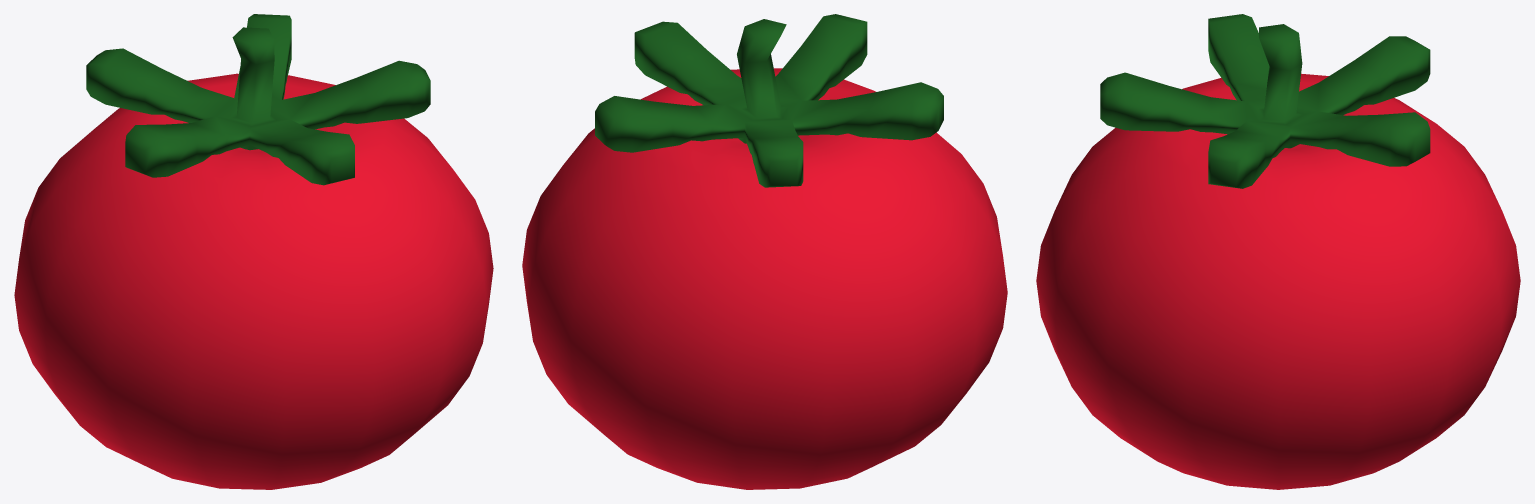
The model's file is tomato_fbx.fbx.
3 views of the same model, side by side, from view 1: azimuth 30°, elevation 25°; view 2: azimuth 150°, elevation 25°; view 3: azimuth 270°, elevation 25° (orthographic).
Parts seen in each view (by area): view 1: Sphere, Cylinder; view 2: Sphere, Cylinder; view 3: Sphere, Cylinder.
Part boxes in pixels (bbox=[...]): Sphere: bbox=[14, 73, 493, 489]; Cylinder: bbox=[86, 14, 430, 185]; Sphere: bbox=[522, 68, 1007, 489]; Cylinder: bbox=[595, 14, 943, 187]; Sphere: bbox=[1036, 73, 1520, 489]; Cylinder: bbox=[1100, 14, 1430, 188].
Size of the model in its own units: 200 by 196 by 200.
